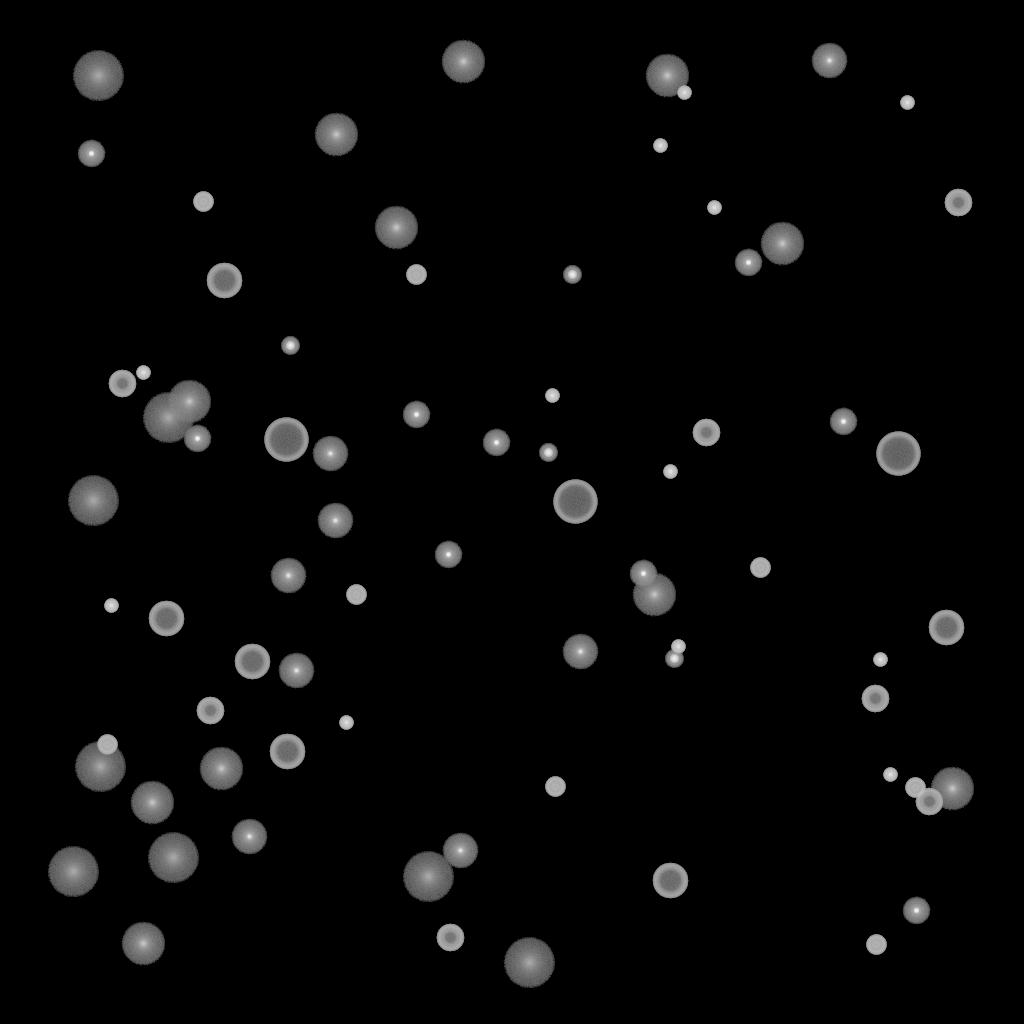depth:-10: (482, 429, 510, 457), (77, 140, 105, 168), (902, 897, 930, 925), (434, 541, 462, 569), (829, 408, 857, 436), (402, 401, 430, 429), (629, 560, 657, 588), (183, 425, 211, 453), (734, 249, 762, 277)
depth:-20: (665, 650, 683, 668), (539, 444, 557, 462), (281, 337, 299, 355), (563, 266, 581, 284)
depth:-30: (136, 366, 150, 380), (545, 389, 559, 403), (671, 640, 685, 654), (707, 201, 721, 215), (677, 86, 691, 100), (873, 653, 887, 667), (104, 599, 118, 613), (883, 768, 897, 782), (339, 716, 353, 730), (663, 465, 677, 479), (653, 139, 667, 153), (900, 96, 914, 110)
depth:-40: (866, 935, 886, 955), (346, 585, 366, 605), (193, 192, 213, 212), (545, 777, 565, 797), (97, 735, 117, 755), (750, 558, 770, 578), (406, 265, 426, 285), (905, 778, 925, 798)
depth:-50: (861, 685, 889, 713), (692, 419, 720, 447), (944, 189, 972, 217), (915, 788, 943, 816), (108, 370, 136, 398), (436, 924, 464, 952), (196, 697, 224, 725)
depth:-60: (928, 610, 964, 646), (269, 734, 305, 770), (206, 263, 242, 299), (234, 644, 270, 680), (652, 863, 688, 899), (148, 601, 184, 637)
depth:-70: (264, 418, 308, 462), (553, 480, 597, 524), (876, 432, 920, 476)
depth:0: (562, 634, 598, 670), (231, 819, 267, 855), (811, 43, 847, 79), (317, 503, 353, 539), (442, 833, 478, 869), (270, 558, 306, 594), (312, 436, 348, 472), (278, 653, 314, 689)
depth:10: (314, 113, 358, 157), (167, 380, 211, 424), (130, 781, 174, 825), (760, 222, 804, 266), (930, 767, 974, 811), (121, 922, 165, 966), (374, 206, 418, 250), (199, 747, 243, 791), (441, 40, 485, 84), (632, 573, 676, 617), (645, 54, 689, 98)
depth:20: (47, 847, 99, 897), (74, 742, 126, 792), (72, 51, 124, 101), (67, 476, 119, 526), (402, 852, 454, 902), (503, 938, 555, 988), (147, 833, 199, 883), (142, 393, 194, 443)
